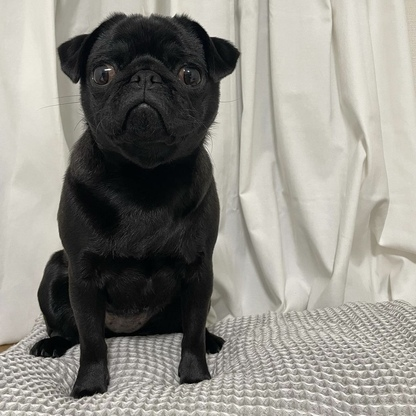Pug: (24, 8, 246, 402)
